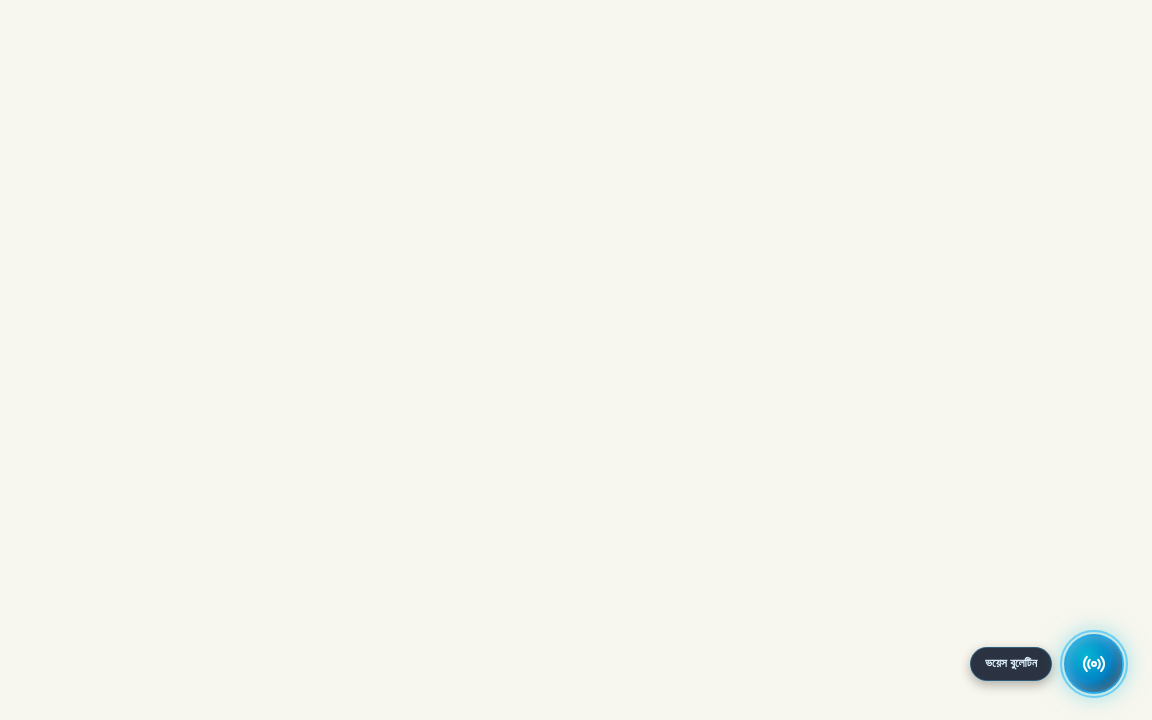
VoiceNotificationOrb Component & Futuristic HUD › supports English voice toggle and updates to natural English speech
Click the button named "ভয়েস নোটিফিকেশন শুনুন".
click(1094, 664)  # box x1=1064 y1=634 x2=1124 y2=694
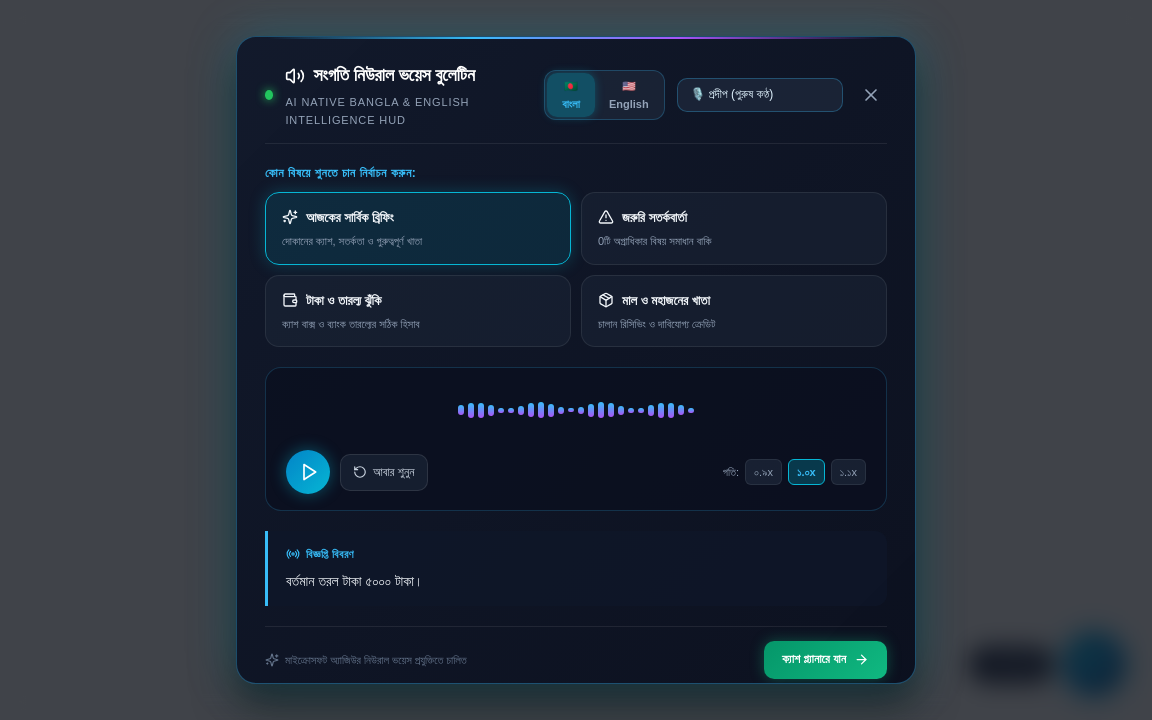
Click English language pill
Click the button "🇺🇸 English".
click(629, 95)  # box x1=595 y1=73 x2=662 y2=117
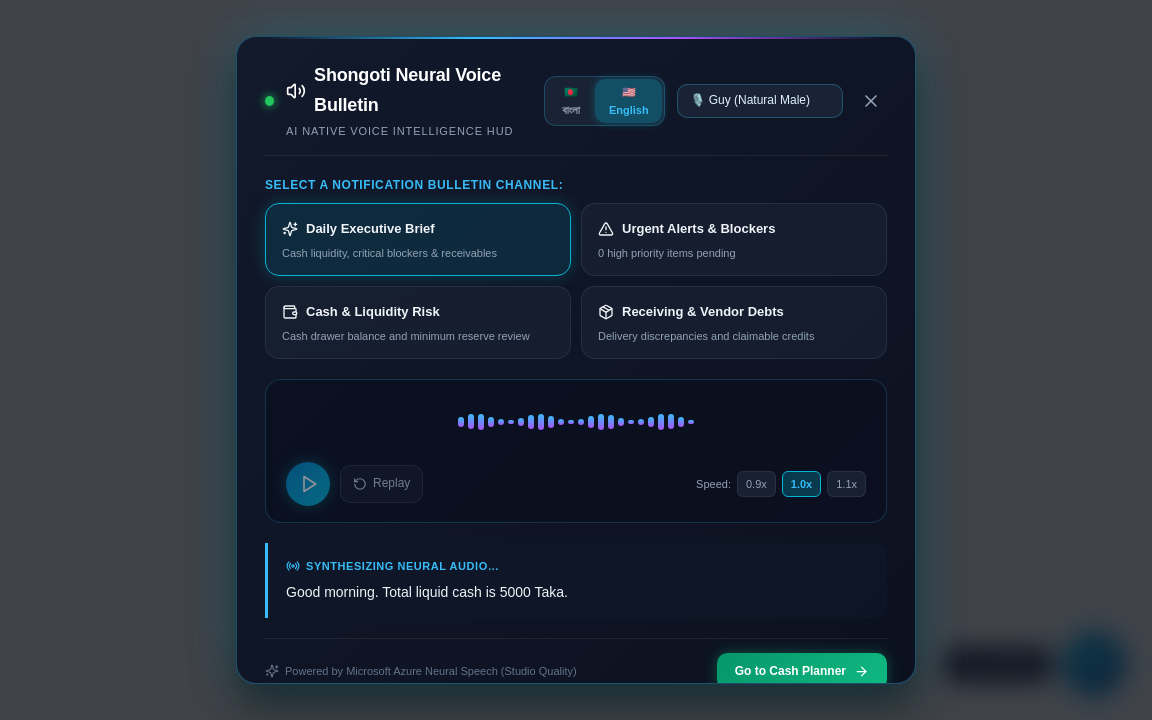
Expected: the heading "Shongoti Neural Voice Bulletin" is shown, x1=286 y1=65 x2=501 y2=115
Expected: the text "Daily Executive Brief" is shown, x1=306 y1=218 x2=435 y2=240
Expected: the text "Cash & Liquidity Risk" is shown, x1=306 y1=301 x2=440 y2=322
